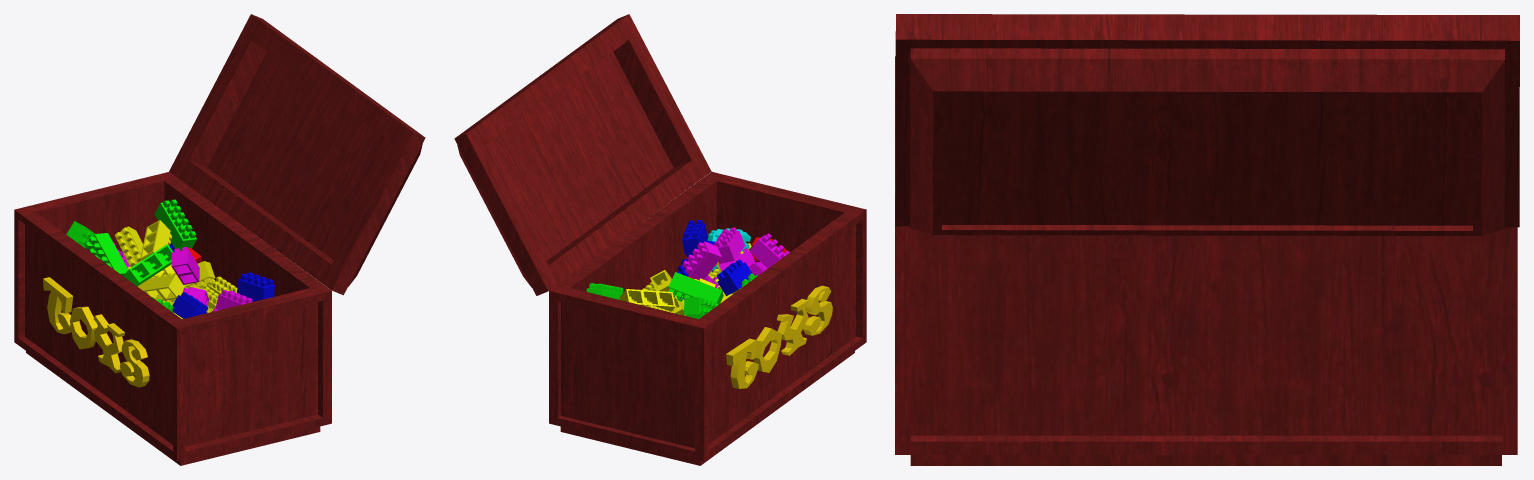
File: skrzynia.fbx
The picture shows the model from 3 angles, left to right: view 1: azimuth 30°, elevation 25°; view 2: azimuth 150°, elevation 25°; view 3: azimuth 270°, elevation 25°; orthographic projection. The views are drawn at different scales.
Visible parts, largest first — view 1: group2, pCube2; view 2: group2, pCube2; view 3: group2, pCube2.
Part boxes in pixels (box(x1,y1,x2,y2)): group2: box(14, 172, 331, 465); pCube2: box(169, 14, 425, 295); group2: box(549, 171, 866, 465); pCube2: box(454, 14, 711, 295); group2: box(895, 56, 1517, 465); pCube2: box(895, 14, 1519, 235).
Bounding box in the file's own units: 17.99 × 18.98 × 20.07.
Materials: 8 (1 with a texture image).
